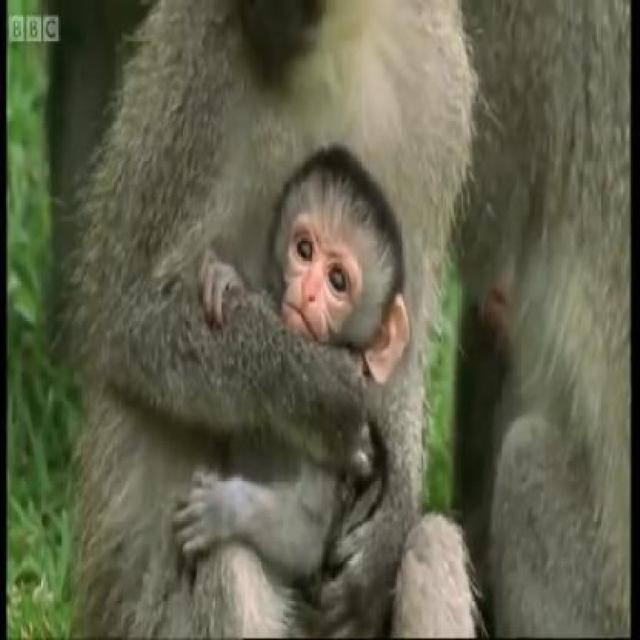Monkey: (170, 151, 442, 638)
